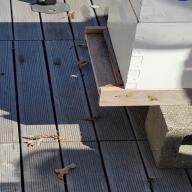Bee: (102, 81, 116, 90), (147, 95, 161, 102)
